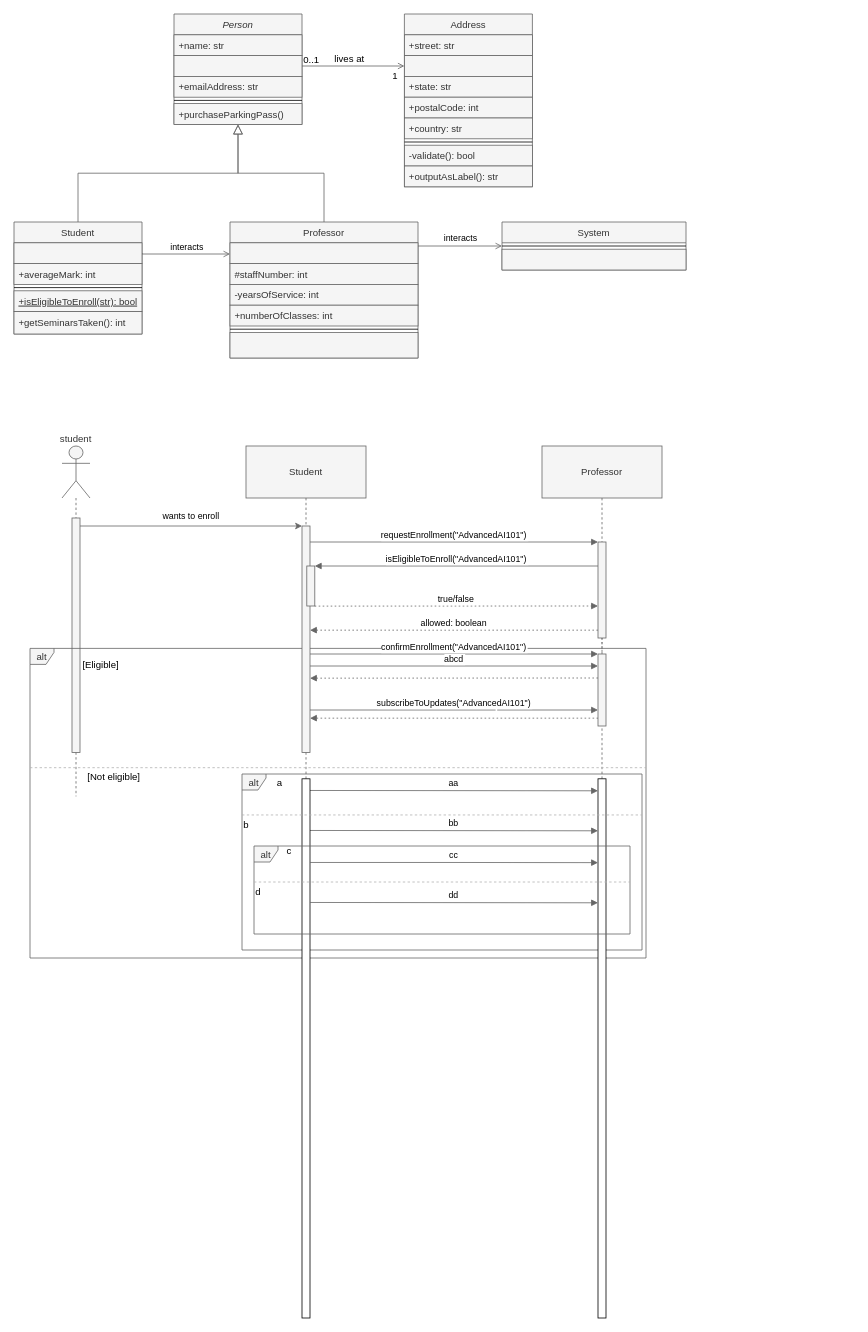
This 868x1332 diagram has some shape labels left out. The centre of each missing label's shape, as x and y in pixels:
"+approveEnrollment(course str): bool" belongs at point (593, 259).
"+city: str" belongs at point (468, 65).
"+phoneNumber: str" belongs at point (237, 65).
"+requestEnrollment(course str): bool" belongs at point (323, 345).
"+studentNumber: int" belongs at point (77, 253).
"/salary: int" belongs at point (323, 253).
